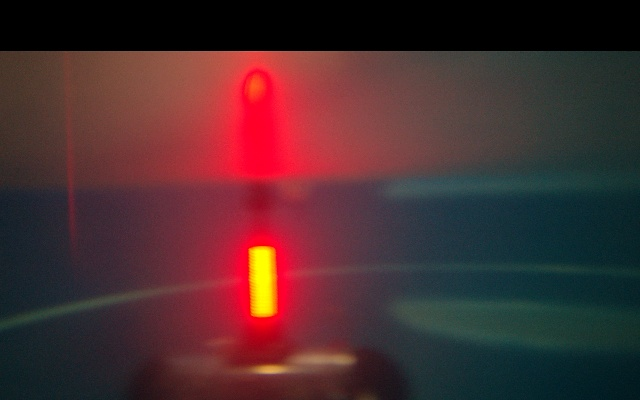red: (250, 246, 277, 324)
